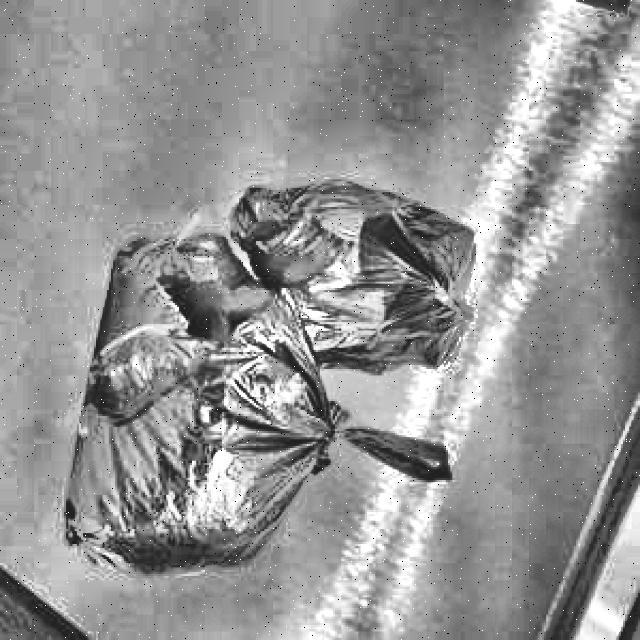Trashbag: (50, 223, 456, 588)
